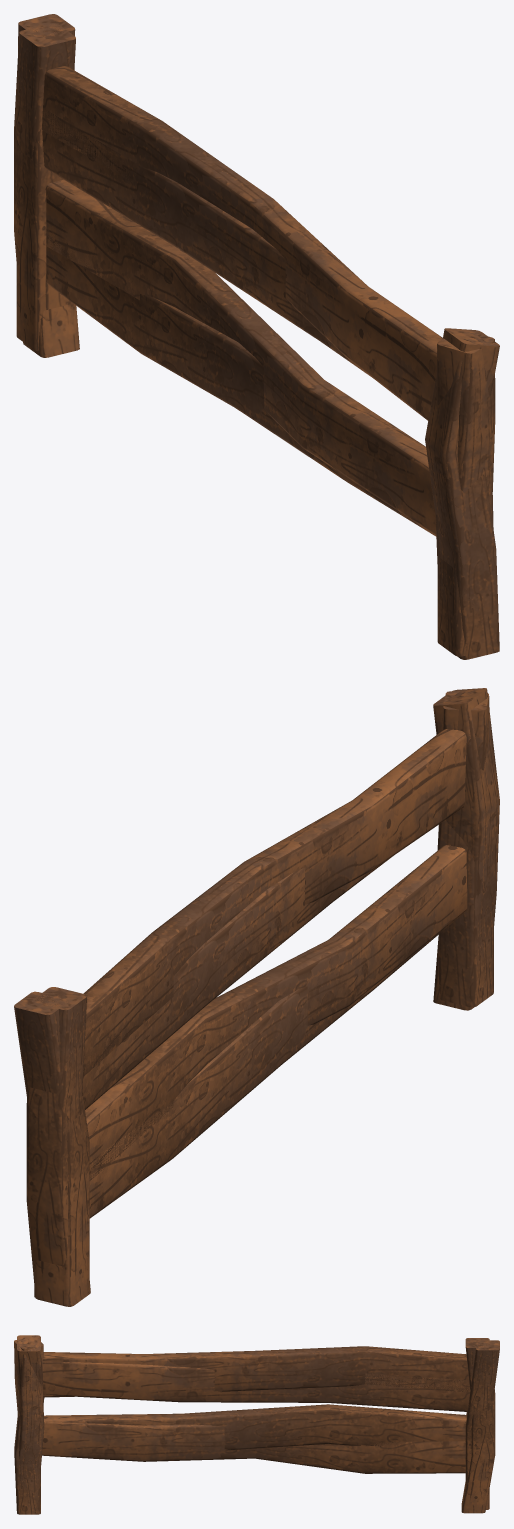
Rendered from Fence.fbx.
3 views of the same model, one above another, from view 1: azimuth 30°, elevation 25°; view 2: azimuth 150°, elevation 25°; view 3: azimuth 270°, elevation 25° (orthographic). The views are drawn at different scales.
Parts seen in each view (by area): view 1: Fence_A, Fence_B, Fence_Stand_A, Fence_Stand_B; view 2: Fence_A, Fence_B, Fence_Stand_A, Fence_Stand_B; view 3: Fence_B, Fence_A, Fence_Stand_A, Fence_Stand_B.
Part boxes in pixels (box(x1,y1,x2,y2)): Fence_A: box(42, 66, 442, 535); Fence_B: box(42, 108, 436, 536); Fence_Stand_A: box(14, 23, 499, 659); Fence_Stand_B: box(16, 14, 495, 656); Fence_A: box(83, 729, 467, 1180); Fence_B: box(82, 857, 465, 1218); Fence_Stand_A: box(26, 688, 499, 1306); Fence_Stand_B: box(14, 691, 493, 1305); Fence_B: box(42, 1362, 470, 1473); Fence_A: box(42, 1346, 469, 1449); Fence_Stand_A: box(14, 1335, 495, 1514); Fence_Stand_B: box(14, 1340, 499, 1509).
Bounding box in the file's own units: 23.52 × 125 × 325.
